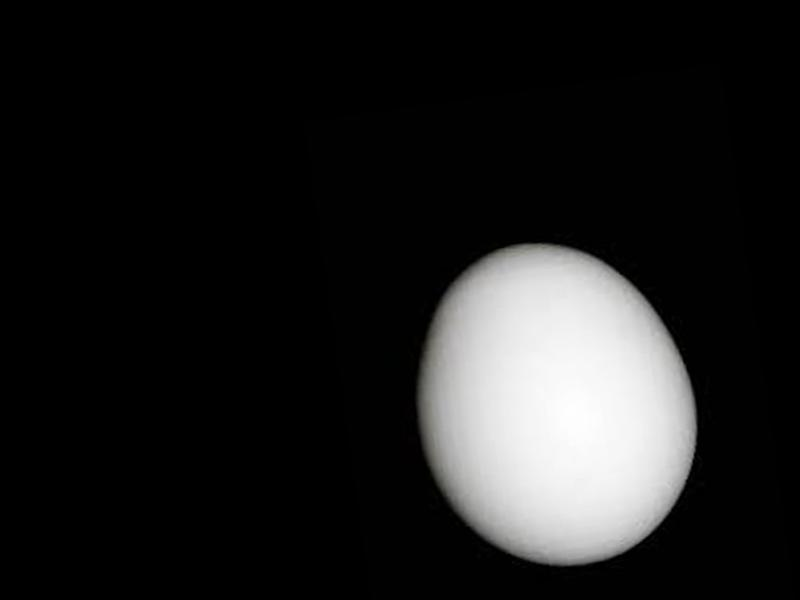Eggs: (402, 227, 713, 585)
